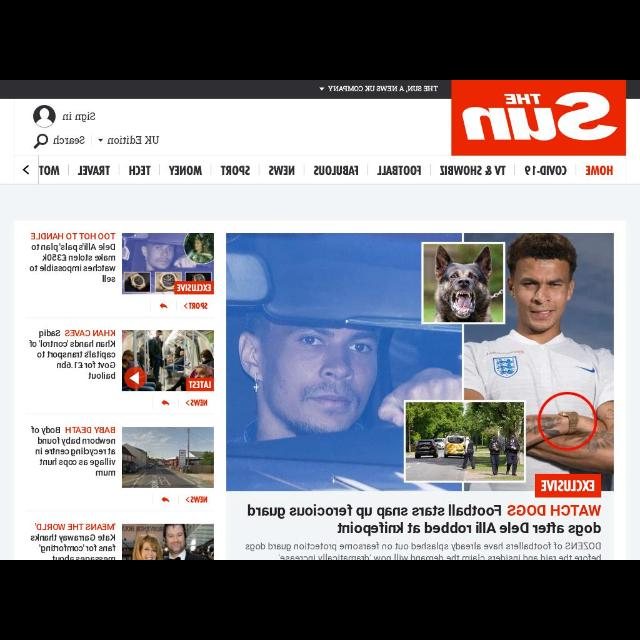icon: (32, 104, 58, 130), (36, 134, 49, 148), (20, 162, 32, 176), (160, 395, 170, 411), (160, 492, 172, 504), (158, 300, 166, 312), (318, 83, 326, 93), (98, 137, 104, 143)
image: (227, 232, 613, 498), (452, 81, 624, 153), (121, 328, 212, 389), (122, 427, 214, 487), (123, 233, 214, 291), (122, 524, 214, 560)
link: (185, 396, 207, 409), (182, 300, 210, 310), (184, 496, 208, 504)
multitab: (2, 156, 638, 186)
spinner: (314, 81, 442, 97), (93, 128, 169, 150)
text: (243, 499, 602, 559), (28, 422, 118, 486), (27, 230, 118, 288), (28, 326, 118, 382), (30, 519, 118, 559), (328, 82, 438, 95), (438, 164, 508, 182), (310, 161, 362, 181), (372, 163, 424, 179), (167, 162, 206, 182), (215, 162, 253, 180), (524, 163, 566, 179), (54, 130, 86, 148), (61, 109, 95, 125), (582, 161, 616, 177), (80, 164, 112, 180), (109, 134, 160, 144), (267, 162, 297, 178), (38, 162, 64, 178), (128, 164, 154, 178)
toolbar: (1, 98, 449, 156)
